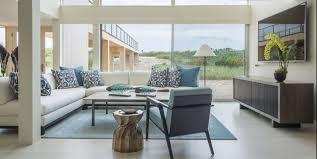TV: (256, 2, 313, 64)
chair: (141, 86, 221, 158)
console: (231, 74, 317, 130)
light: (193, 42, 215, 85)
sofa: (0, 61, 199, 134)
table: (82, 89, 179, 127), (112, 109, 144, 153)
